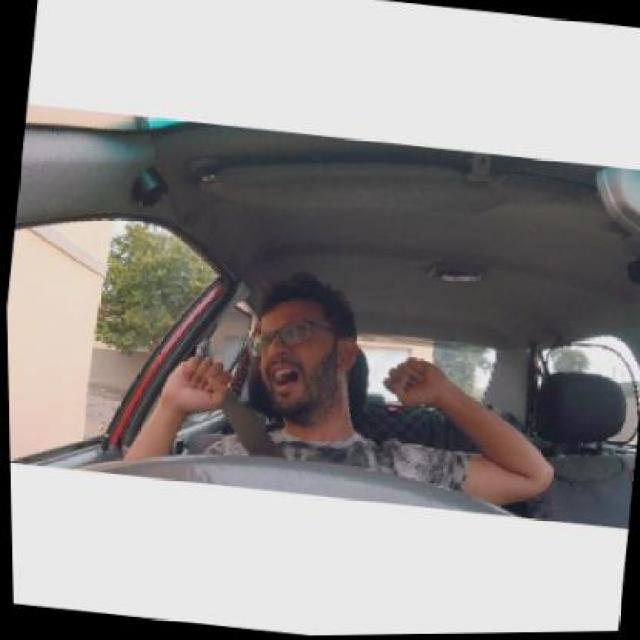drowsy: (238, 264, 380, 456)
